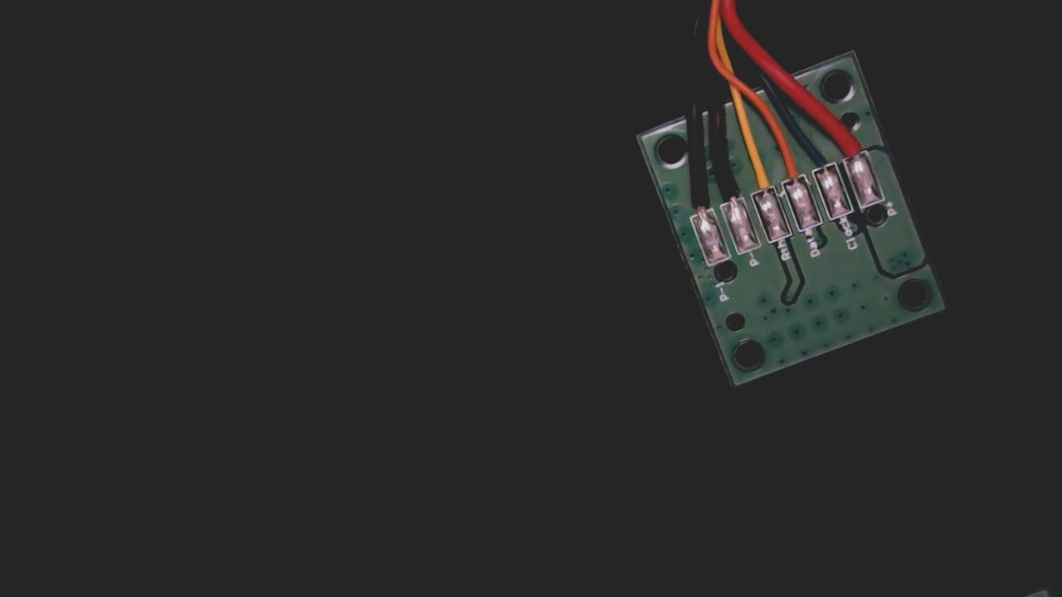Black: (707, 157, 748, 216)
Black1: (677, 173, 717, 228)
Green: (799, 126, 841, 183)
Orange: (768, 133, 810, 193)
Red: (828, 116, 871, 170)
Yellow: (738, 148, 780, 205)
